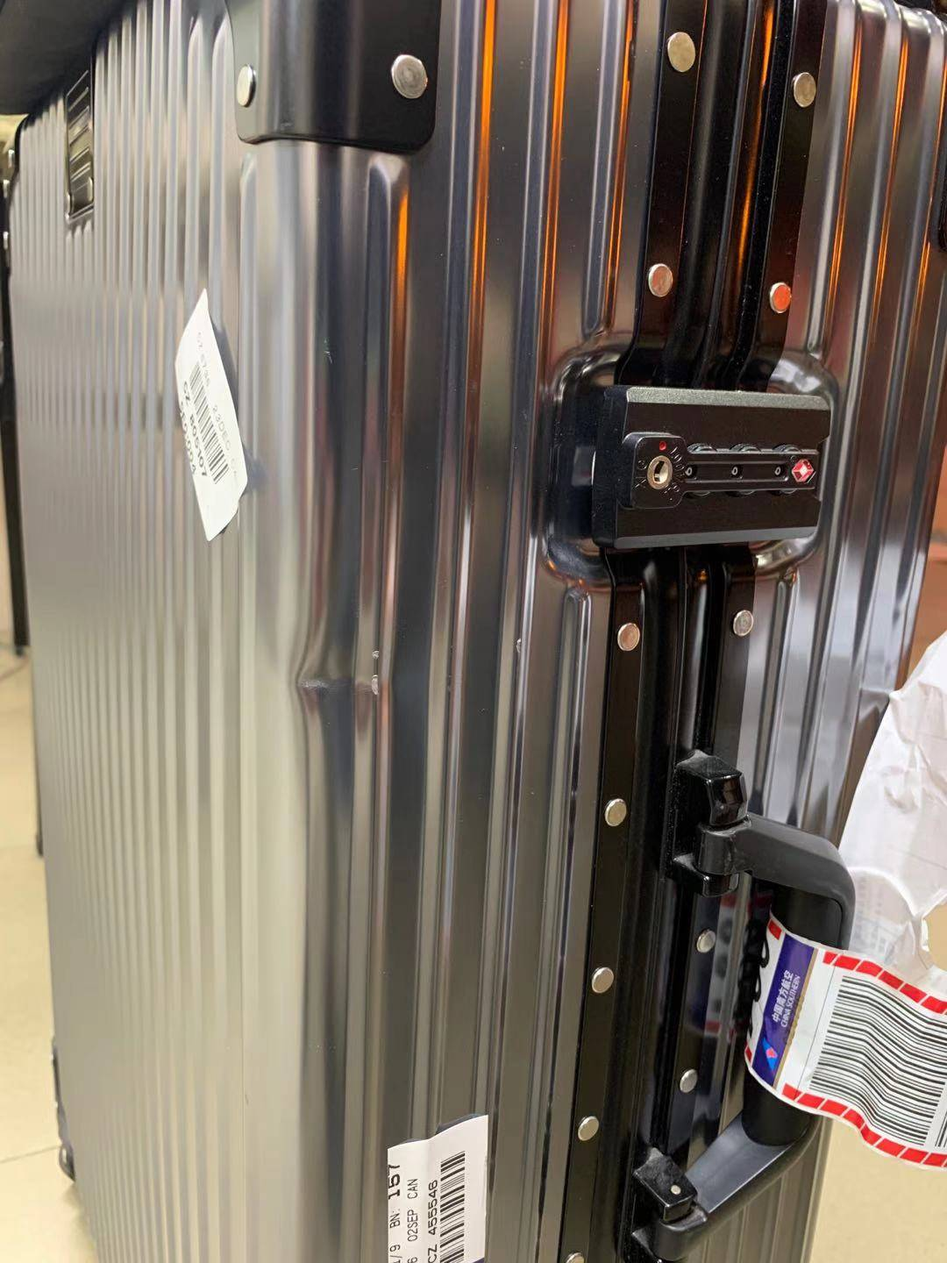rupture: (286, 618, 349, 730)
